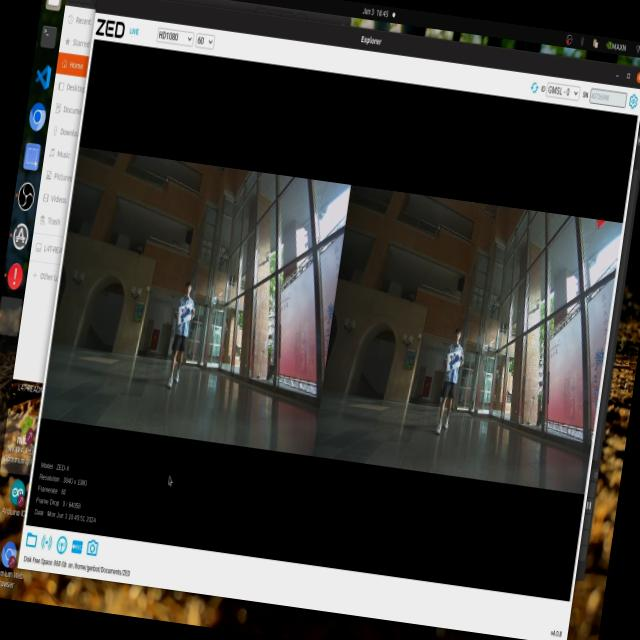blue: (447, 354, 478, 389), (172, 302, 194, 331)
